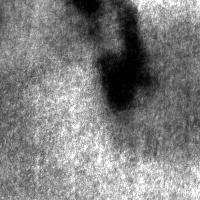patches: (95, 14, 200, 162), (29, 0, 123, 62), (97, 9, 152, 111), (0, 0, 58, 78), (69, 1, 103, 14)
